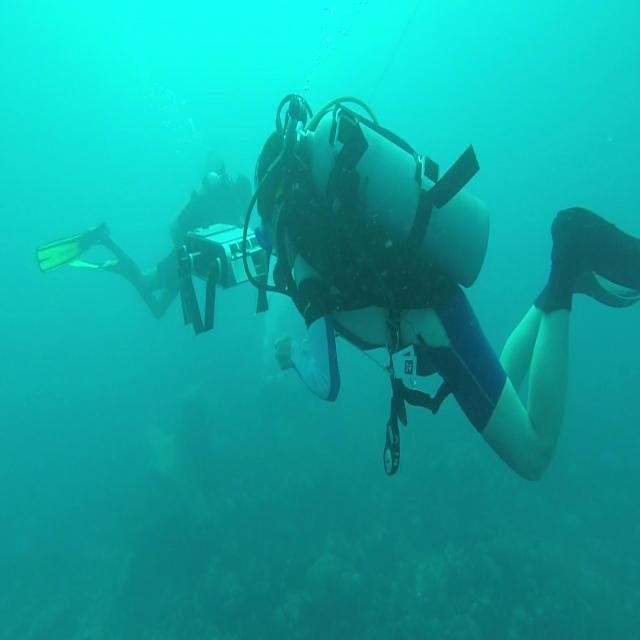human: (251, 93, 639, 481), (36, 160, 257, 322)
